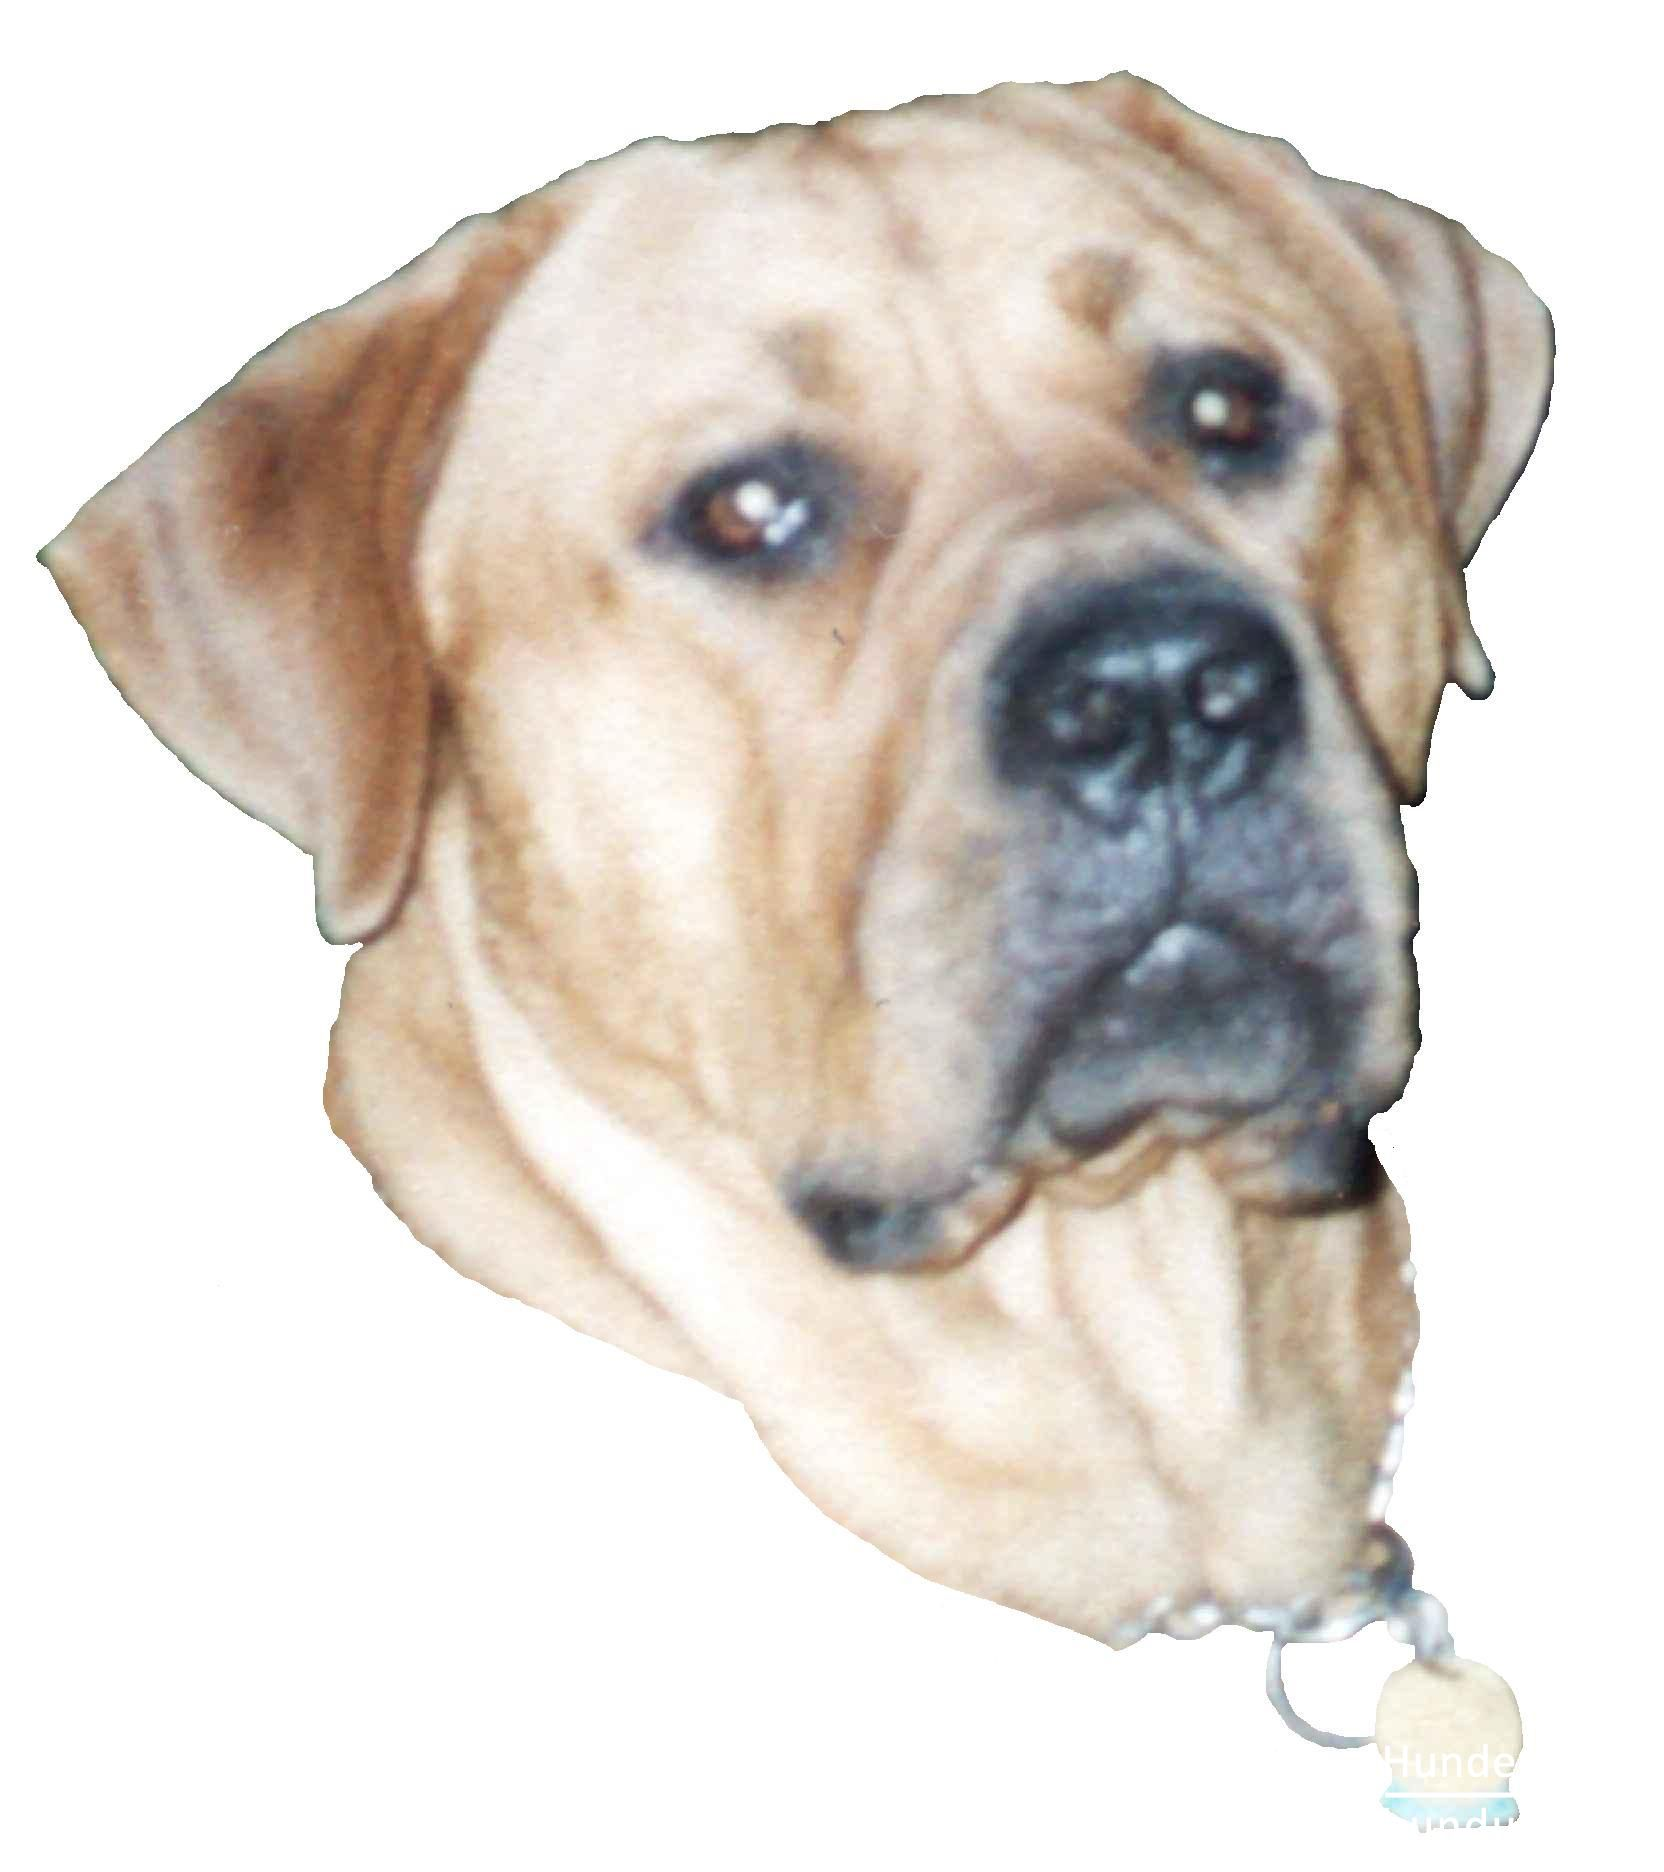tosa_inu: (29, 63, 1561, 1655)
